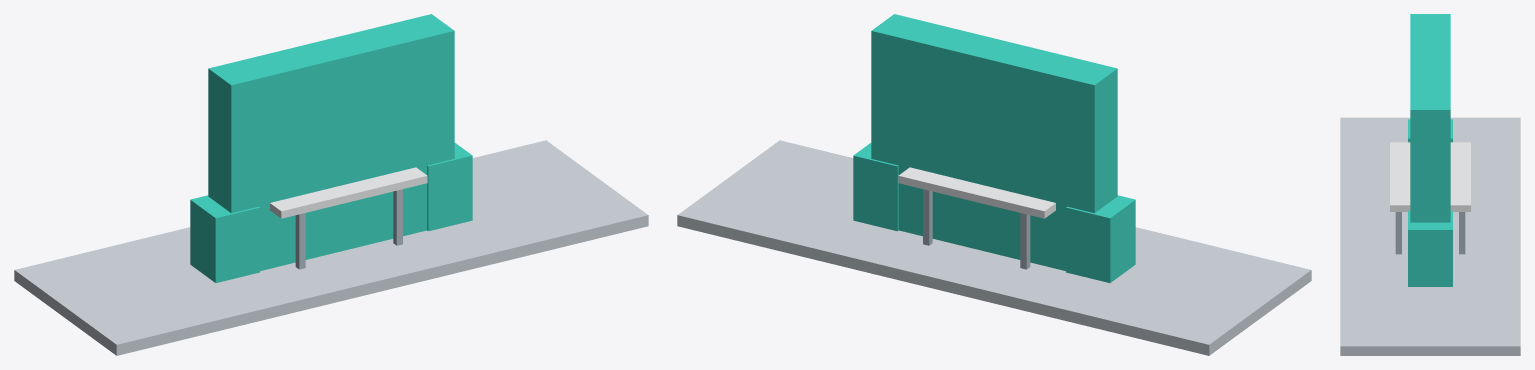
3 views of the same model, side by side, from view 1: azimuth 30°, elevation 25°; view 2: azimuth 150°, elevation 25°; view 3: azimuth 270°, elevation 25° (orthographic). The views are drawn at different scales.
Parts seen in each view (by area): view 1: Exhibition Booth Concept; view 2: Exhibition Booth Concept; view 3: Exhibition Booth Concept.
Boxes of the visible parts, x1,y1,x2,y2 form: Exhibition Booth Concept: (14,14,648,355); Exhibition Booth Concept: (677,14,1311,355); Exhibition Booth Concept: (1340,14,1520,355).
Bounding box in the file's own units: 6 × 2.2 × 2.
